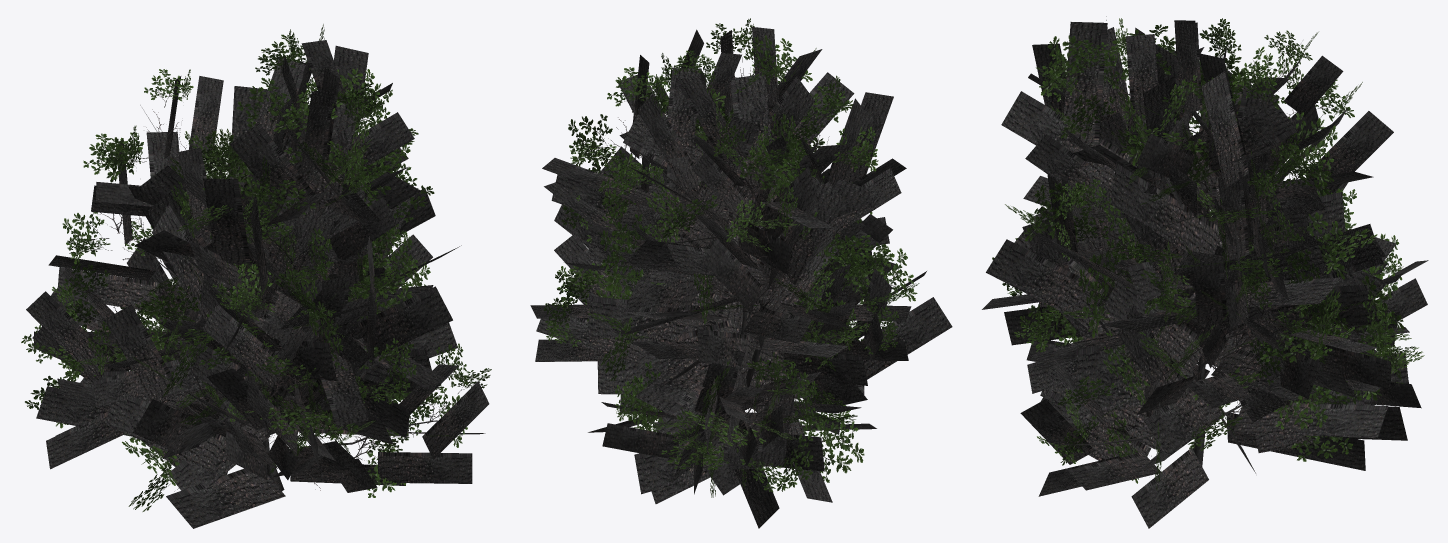
File: BUSH_Oak04_Test.fbx
The picture shows the model from 3 angles, left to right: view 1: azimuth 30°, elevation 25°; view 2: azimuth 150°, elevation 25°; view 3: azimuth 270°, elevation 25°; orthographic projection. The views are drawn at different scales.
Visible parts, largest first — view 1: BUSH_Oak04; view 2: BUSH_Oak04; view 3: BUSH_Oak04.
Boxes of the visible parts, x1,y1,x2,y2 form: BUSH_Oak04: [21, 24, 491, 528]; BUSH_Oak04: [530, 18, 952, 528]; BUSH_Oak04: [982, 16, 1428, 528].
Bounding box in the file's own units: 693 × 784 × 668.
